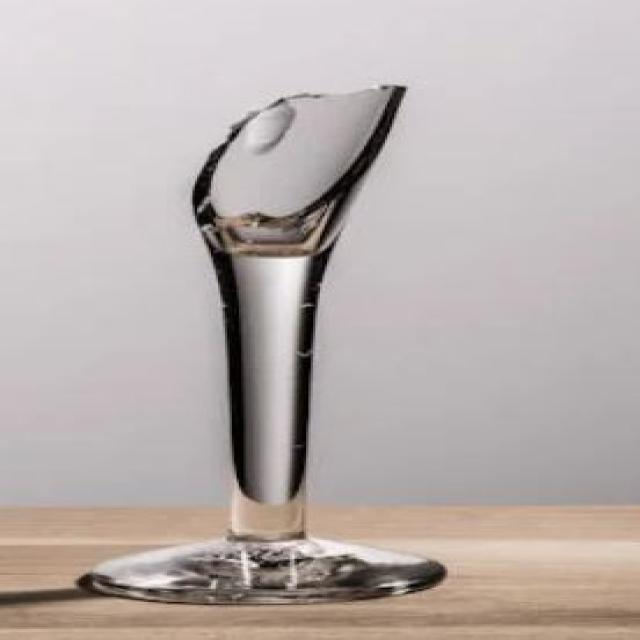electronic: (74, 73, 452, 609)
